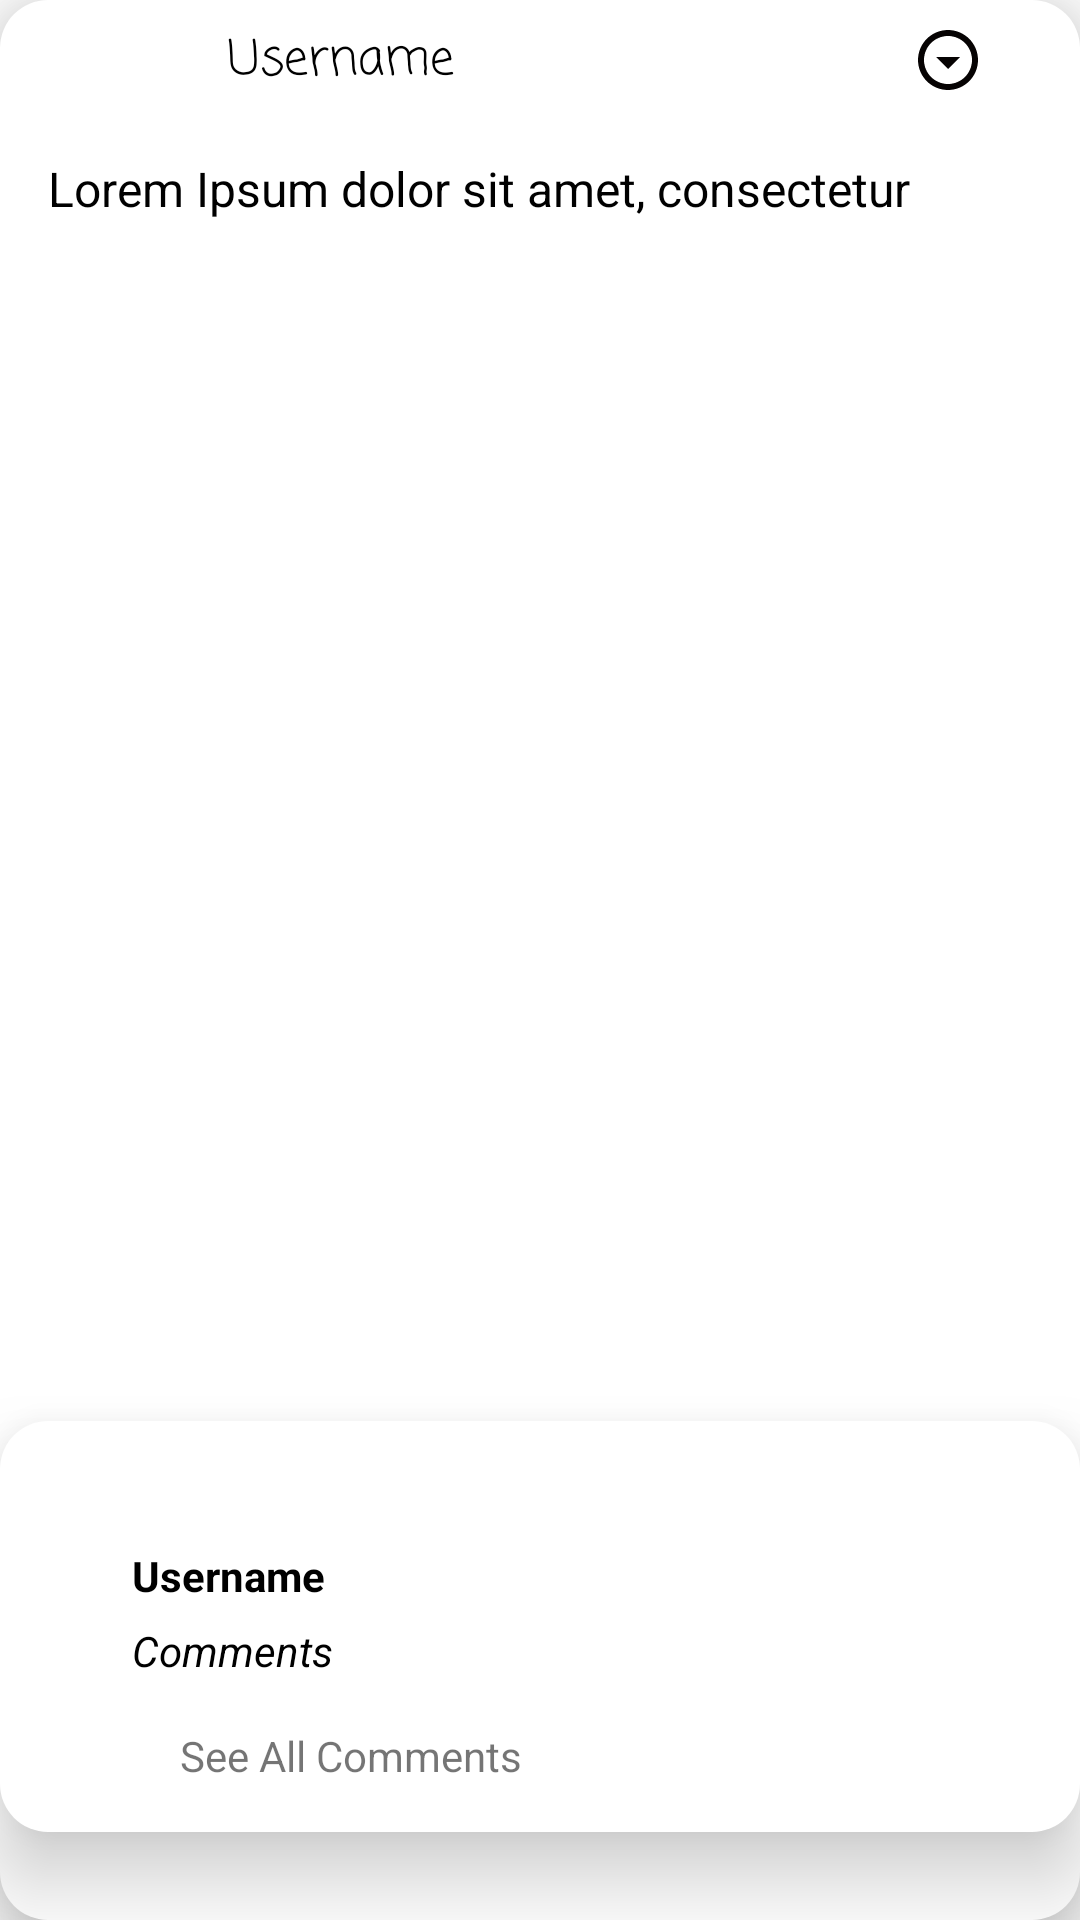

Screen size 1080px×1920px. Icon name, then its box in pixels as (x1, y1, x2, y2):
drop down: (918, 30, 978, 90)
